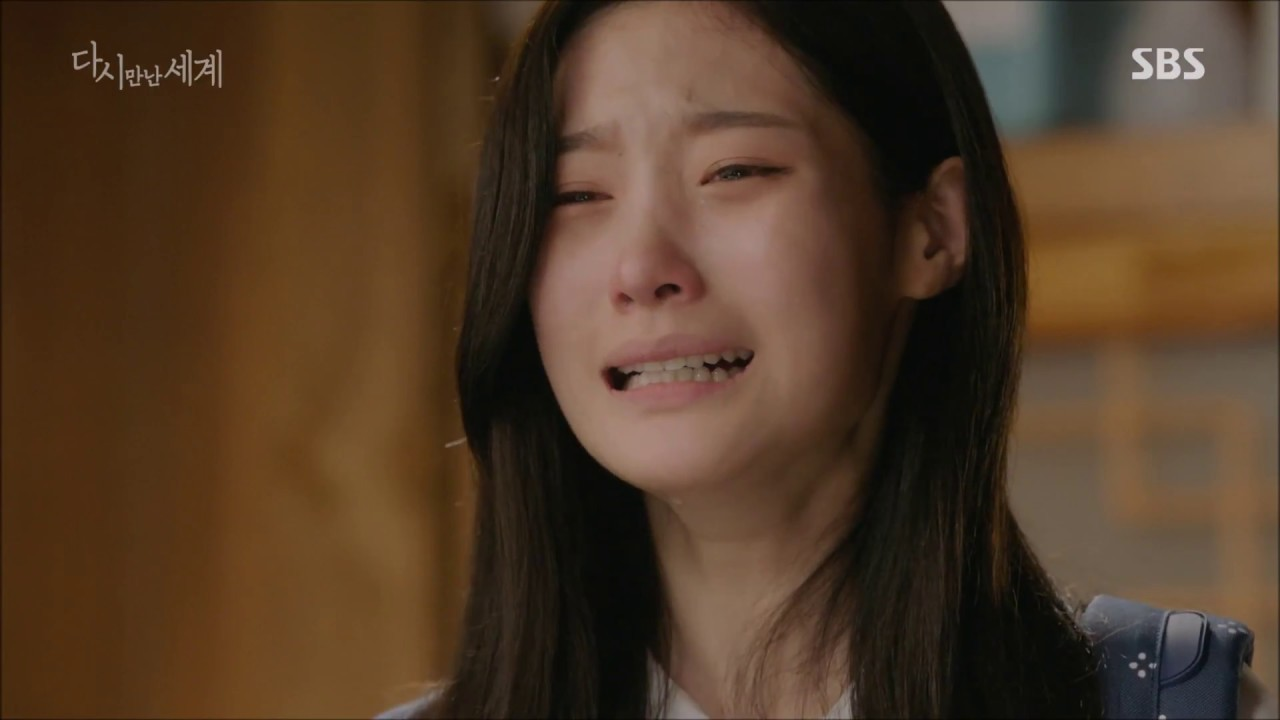sad: (537, 43, 876, 473)
